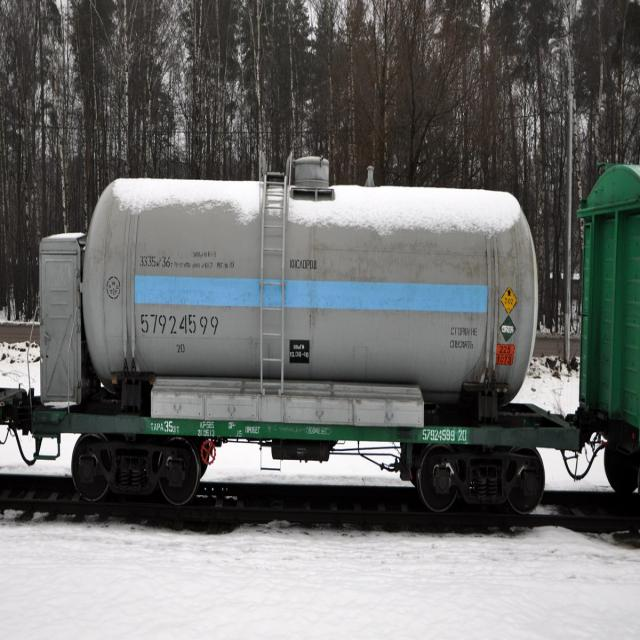boxcar: (562, 137, 640, 511)
tank: (29, 134, 551, 512)
